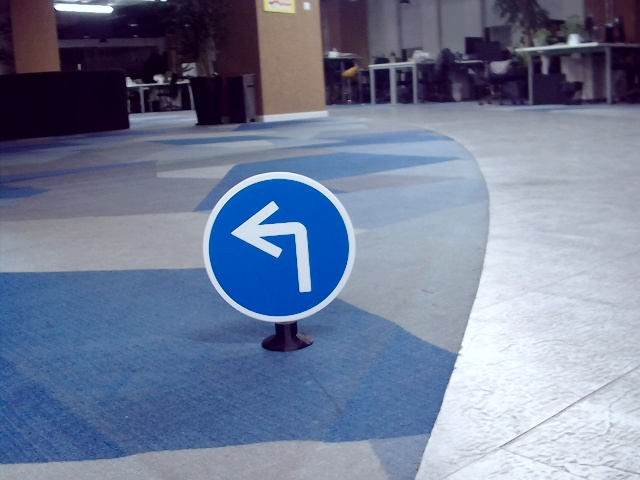turn_left: (230, 199, 316, 292)
